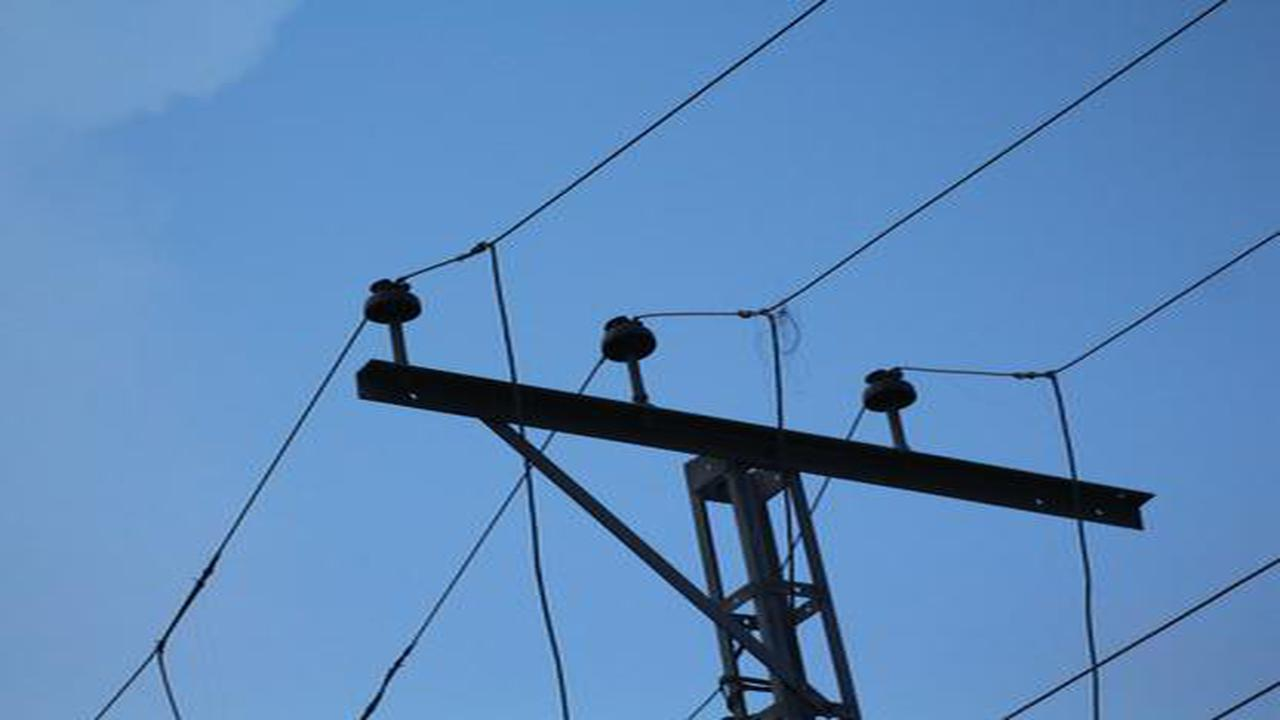insulator_pin: (591, 308, 660, 371), (360, 272, 425, 333), (857, 364, 922, 419)
